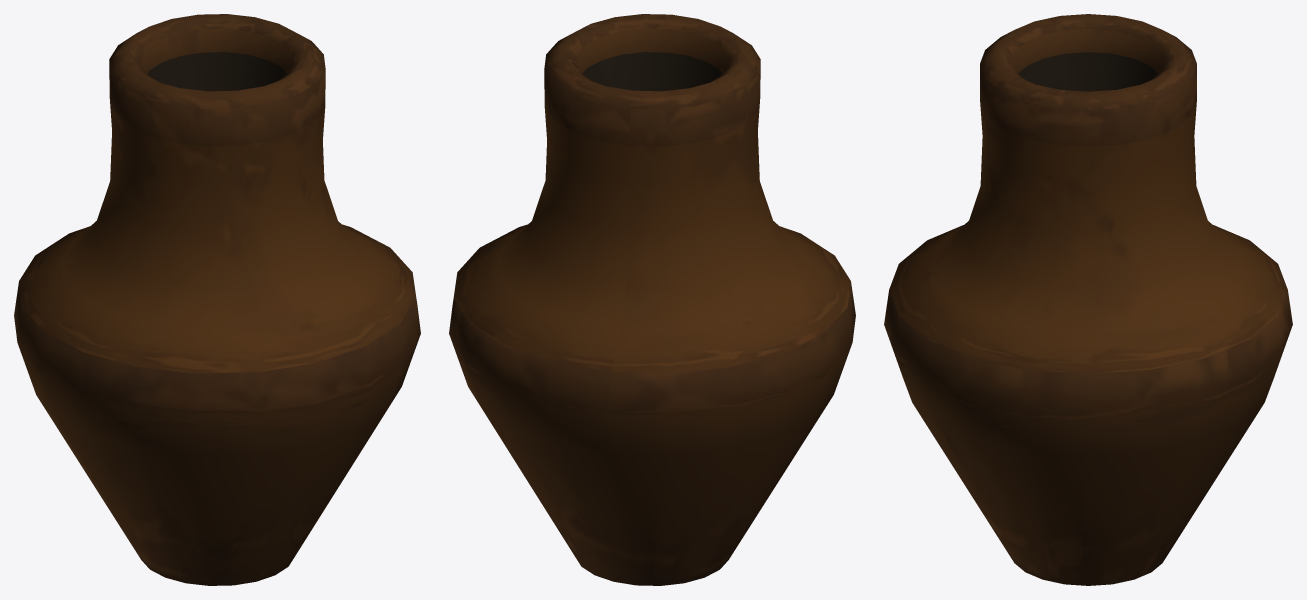
The model's file is Vase_4.glb.
3 renders of one model, left to right at view 1: azimuth 30°, elevation 25°; view 2: azimuth 150°, elevation 25°; view 3: azimuth 270°, elevation 25°, orthographic.
Visible parts, largest first — view 1: Vase_4; view 2: Vase_4; view 3: Vase_4.
Boxes of the visible parts, x1,y1,x2,y2 form: Vase_4: (14,14,420,585); Vase_4: (449,14,855,585); Vase_4: (884,14,1292,585).
Bounding box in the file's own units: 0.3596 × 0.4855 × 0.3596.
1 material, 1 textured.
